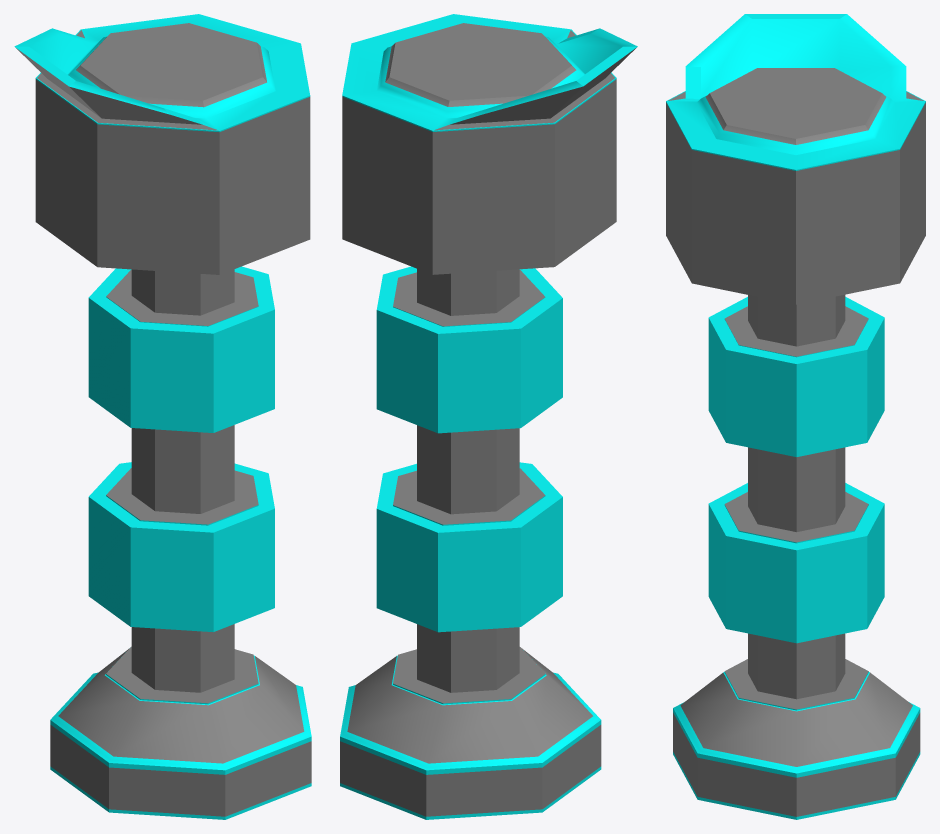
File: stoolBarSquare.glb
3 views of the same model, side by side, from view 1: azimuth 30°, elevation 25°; view 2: azimuth 150°, elevation 25°; view 3: azimuth 270°, elevation 25° (orthographic). The views are drawn at different scales.
Parts seen in each view (by area): view 1: stoolBarSquare; view 2: stoolBarSquare; view 3: stoolBarSquare.
Boxes of the visible parts, left/top/right/bottom form: stoolBarSquare: left=14, top=14, right=311, bottom=819; stoolBarSquare: left=340, top=14, right=637, bottom=819; stoolBarSquare: left=666, top=14, right=925, bottom=819.
Size of the model in its own units: 0.3422 by 0.9175 by 0.3145.
